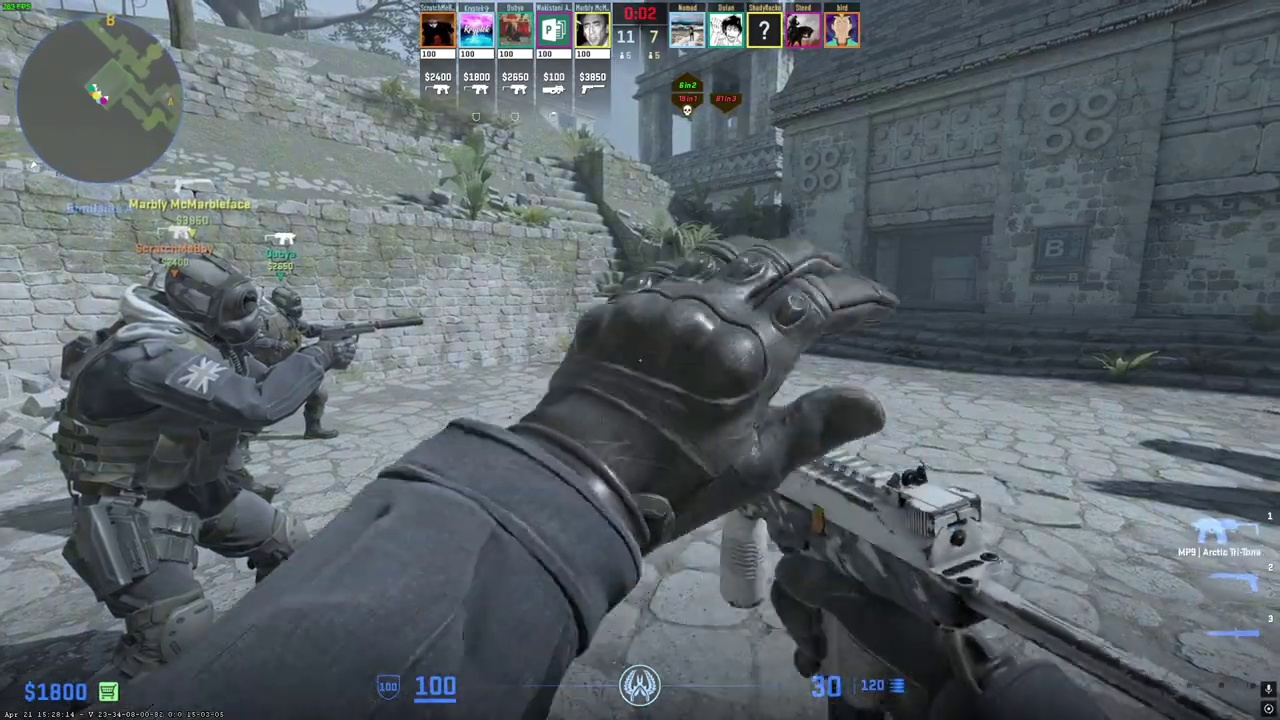CT: (56, 249, 309, 665), (259, 285, 338, 440)
